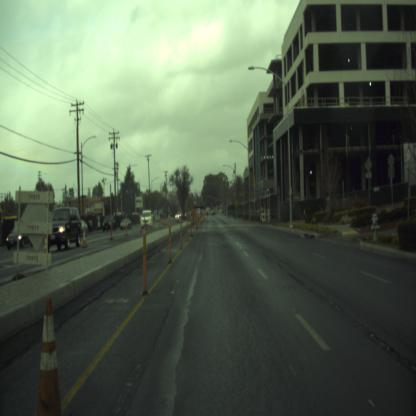Red: (196, 194, 198, 198), (222, 202, 223, 206), (209, 195, 210, 199), (204, 195, 204, 198)
